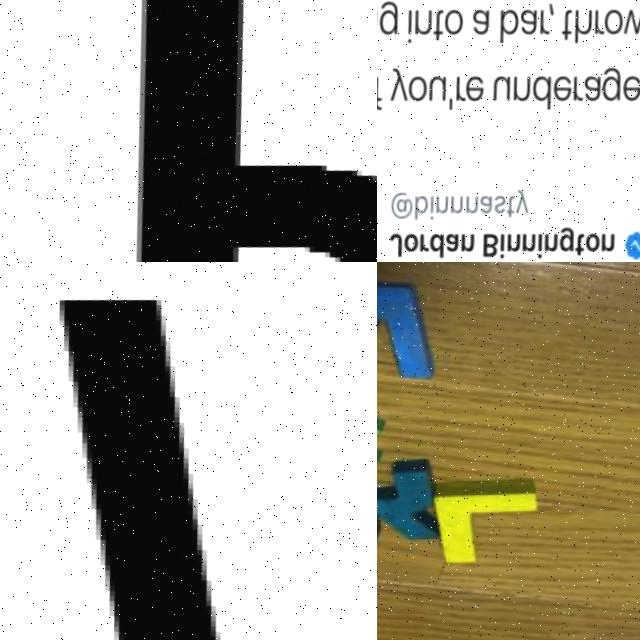A: (574, 77, 595, 108), (512, 11, 533, 41), (465, 11, 485, 39), (470, 196, 487, 219), (434, 234, 451, 256)
B: (492, 11, 515, 49), (472, 235, 490, 262), (405, 196, 421, 222)
D: (524, 78, 547, 116), (419, 234, 436, 262)
E: (457, 76, 479, 106), (615, 79, 636, 109), (544, 79, 565, 107)
G: (593, 71, 616, 107), (377, 0, 394, 38), (549, 228, 567, 258)
H: (565, 13, 588, 49)
I: (400, 11, 408, 45), (488, 235, 497, 262), (526, 237, 534, 262), (419, 197, 426, 224)
J: (378, 232, 395, 260)
K: (377, 458, 445, 553)
L: (417, 478, 545, 579)
N: (504, 78, 526, 107), (406, 11, 427, 37), (510, 235, 527, 257), (450, 235, 467, 255), (496, 236, 513, 256), (534, 237, 550, 257), (590, 238, 606, 258), (455, 197, 471, 217), (426, 197, 441, 217), (441, 198, 456, 218)
O: (435, 10, 459, 39), (400, 76, 421, 104), (597, 15, 618, 41), (575, 236, 591, 258), (394, 234, 411, 254)
P: (130, 0, 377, 262)
R: (532, 13, 546, 41), (447, 77, 460, 105), (564, 81, 578, 107), (587, 13, 600, 41), (409, 235, 421, 254)
S: (484, 198, 499, 218)
T: (0, 275, 377, 640), (424, 11, 438, 45), (553, 14, 567, 46), (565, 236, 577, 262), (496, 199, 507, 222)
U: (419, 76, 441, 105), (484, 78, 505, 107)
V: (377, 285, 434, 394)
W: (616, 12, 640, 42)
Y: (380, 67, 403, 103), (505, 192, 521, 218)
